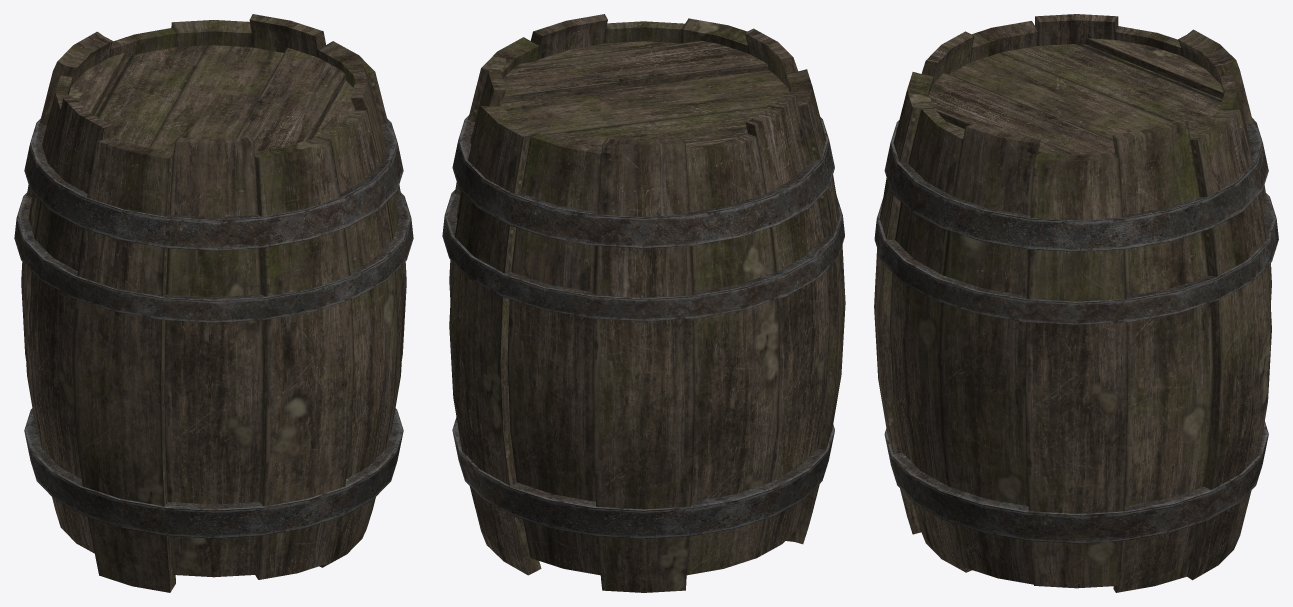
Rendered from Barrel02.fbx.
The picture shows the model from 3 angles, left to right: view 1: azimuth 30°, elevation 25°; view 2: azimuth 150°, elevation 25°; view 3: azimuth 270°, elevation 25°; orthographic projection.
Parts seen in each view (by area): view 1: Barrel02; view 2: Barrel02; view 3: Barrel02.
Boxes of the visible parts, x1=… form: Barrel02: x1=14, y1=14, x2=413, y2=592; Barrel02: x1=442, y1=14, x2=845, y2=592; Barrel02: x1=874, y1=14, x2=1278, y2=592.
Bounding box in the file's own units: 78.64 × 97.73 × 78.64.
